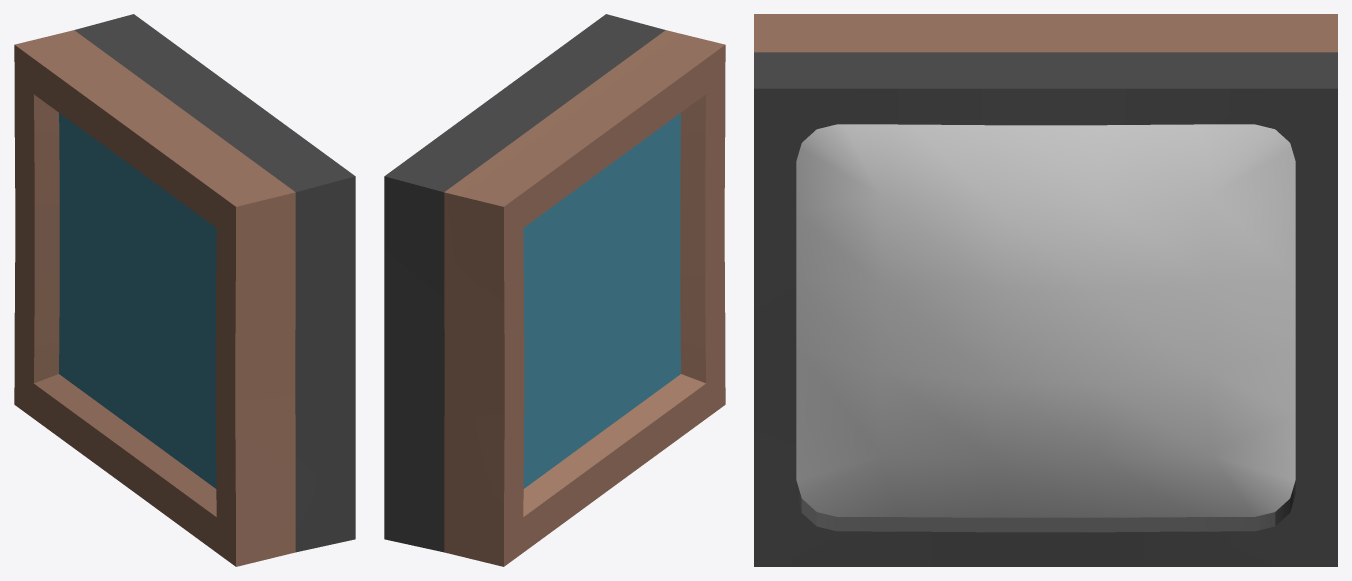
File: Tv_Frame.fbx
The picture shows the model from 3 angles, left to right: view 1: azimuth 30°, elevation 25°; view 2: azimuth 150°, elevation 25°; view 3: azimuth 270°, elevation 25°; orthographic projection. The views are drawn at different scales.
Parts seen in each view (by area): view 1: Tv_Frame; view 2: Tv_Frame; view 3: Tv_Frame.
Part boxes in pixels (bbox=[...]): Tv_Frame: bbox=[14, 14, 355, 566]; Tv_Frame: bbox=[384, 14, 725, 566]; Tv_Frame: bbox=[754, 14, 1337, 566].
Bounding box in the file's own units: 27.67 × 72.59 × 80.34.
